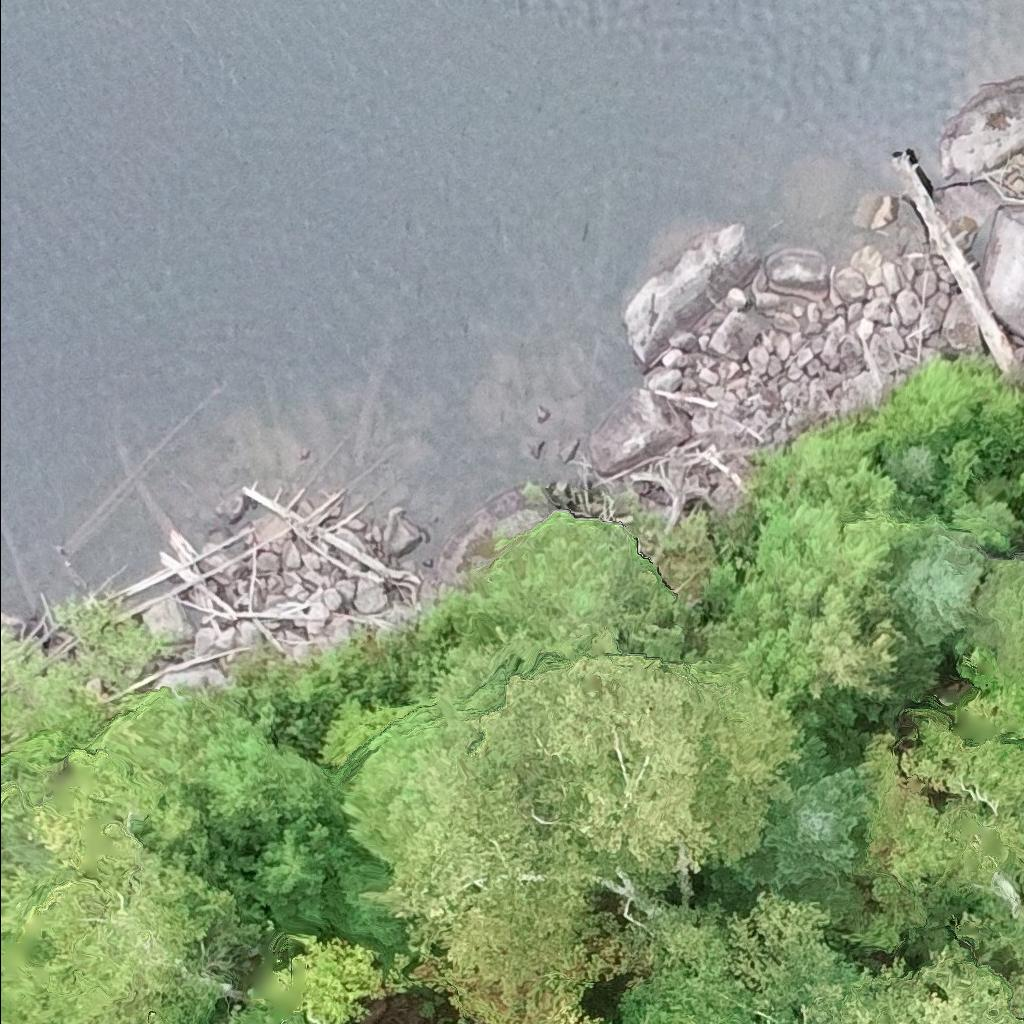crown: (470, 631, 794, 876), (370, 726, 599, 1002), (687, 550, 938, 765), (603, 891, 864, 1023), (735, 732, 871, 890), (803, 936, 1023, 1023), (759, 496, 924, 599), (886, 521, 991, 651), (945, 486, 1023, 552), (545, 1004, 620, 1023), (676, 1023, 680, 1023)
